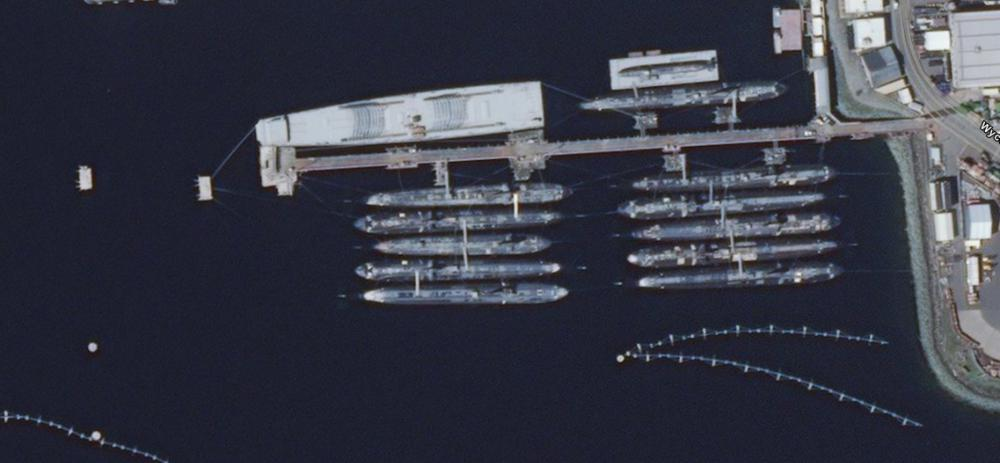submarine: (306, 278, 597, 316), (629, 263, 854, 312), (614, 154, 850, 194), (347, 169, 579, 209), (317, 255, 581, 283), (333, 204, 571, 235), (325, 231, 576, 260), (583, 81, 802, 113), (605, 192, 843, 218), (597, 218, 859, 241), (603, 243, 861, 266)
